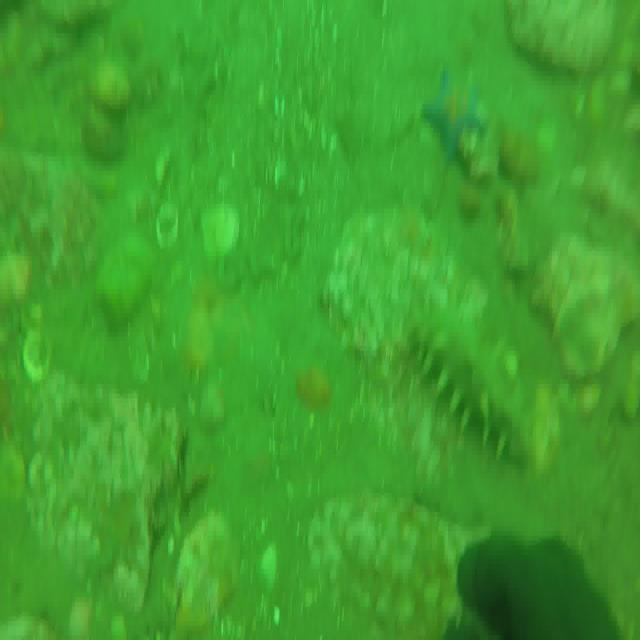holothurian: (412, 304, 534, 466)
starfish: (424, 68, 484, 159)
